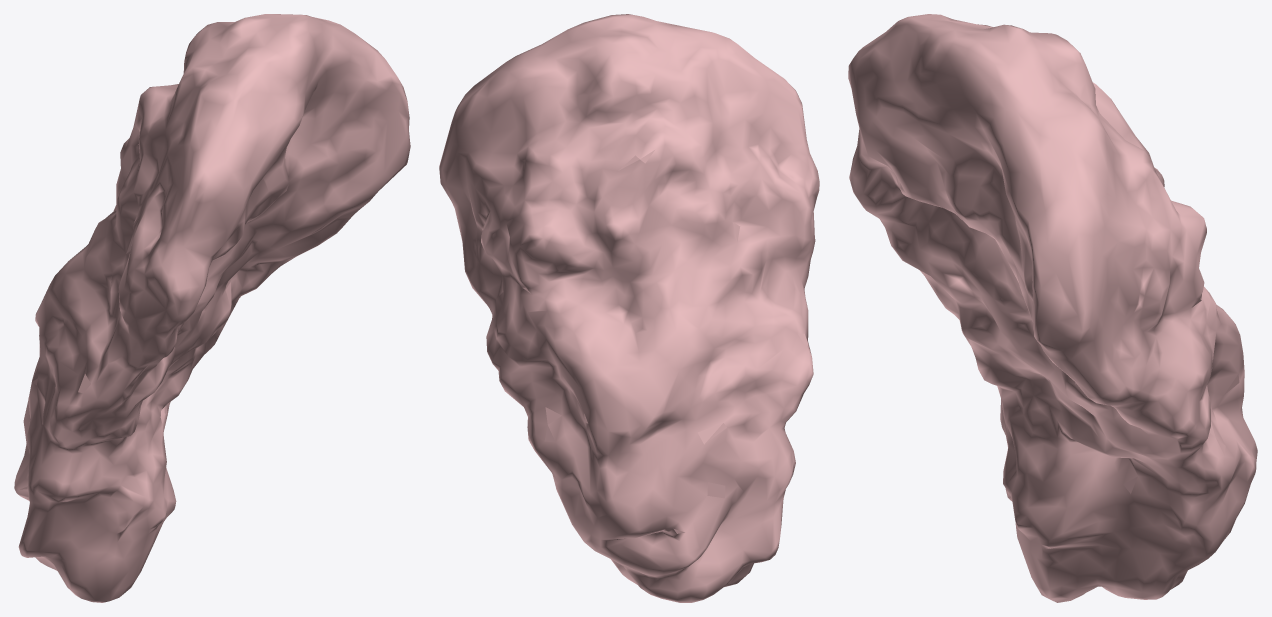
File: 3d-vh-m-palatine-tonsil-r-40.glb
The picture shows the model from 3 angles, left to right: view 1: azimuth 30°, elevation 25°; view 2: azimuth 150°, elevation 25°; view 3: azimuth 270°, elevation 25°; orthographic projection. The views are drawn at different scales.
Visible parts, largest first — view 1: VH_M_palatine_tonsil_R; view 2: VH_M_palatine_tonsil_R; view 3: VH_M_palatine_tonsil_R.
Boxes of the visible parts, bbox=[...] form: VH_M_palatine_tonsil_R: bbox=[14, 14, 410, 602]; VH_M_palatine_tonsil_R: bbox=[439, 14, 819, 602]; VH_M_palatine_tonsil_R: bbox=[848, 14, 1257, 602].
Bounding box in the file's own units: 0.0168 × 0.0239 × 0.0139.
